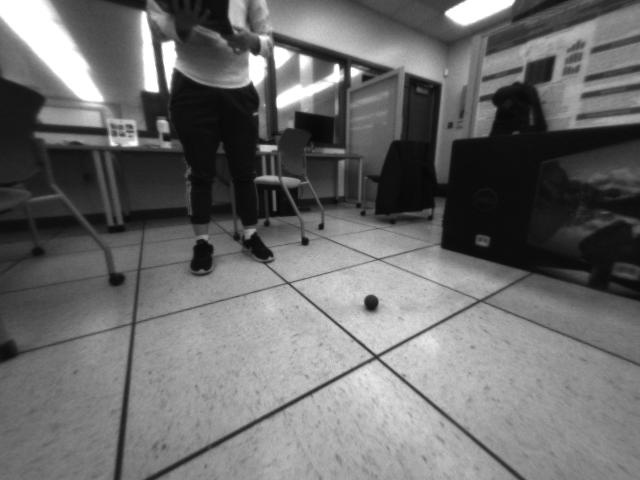dogtoy: (358, 286, 386, 316)
